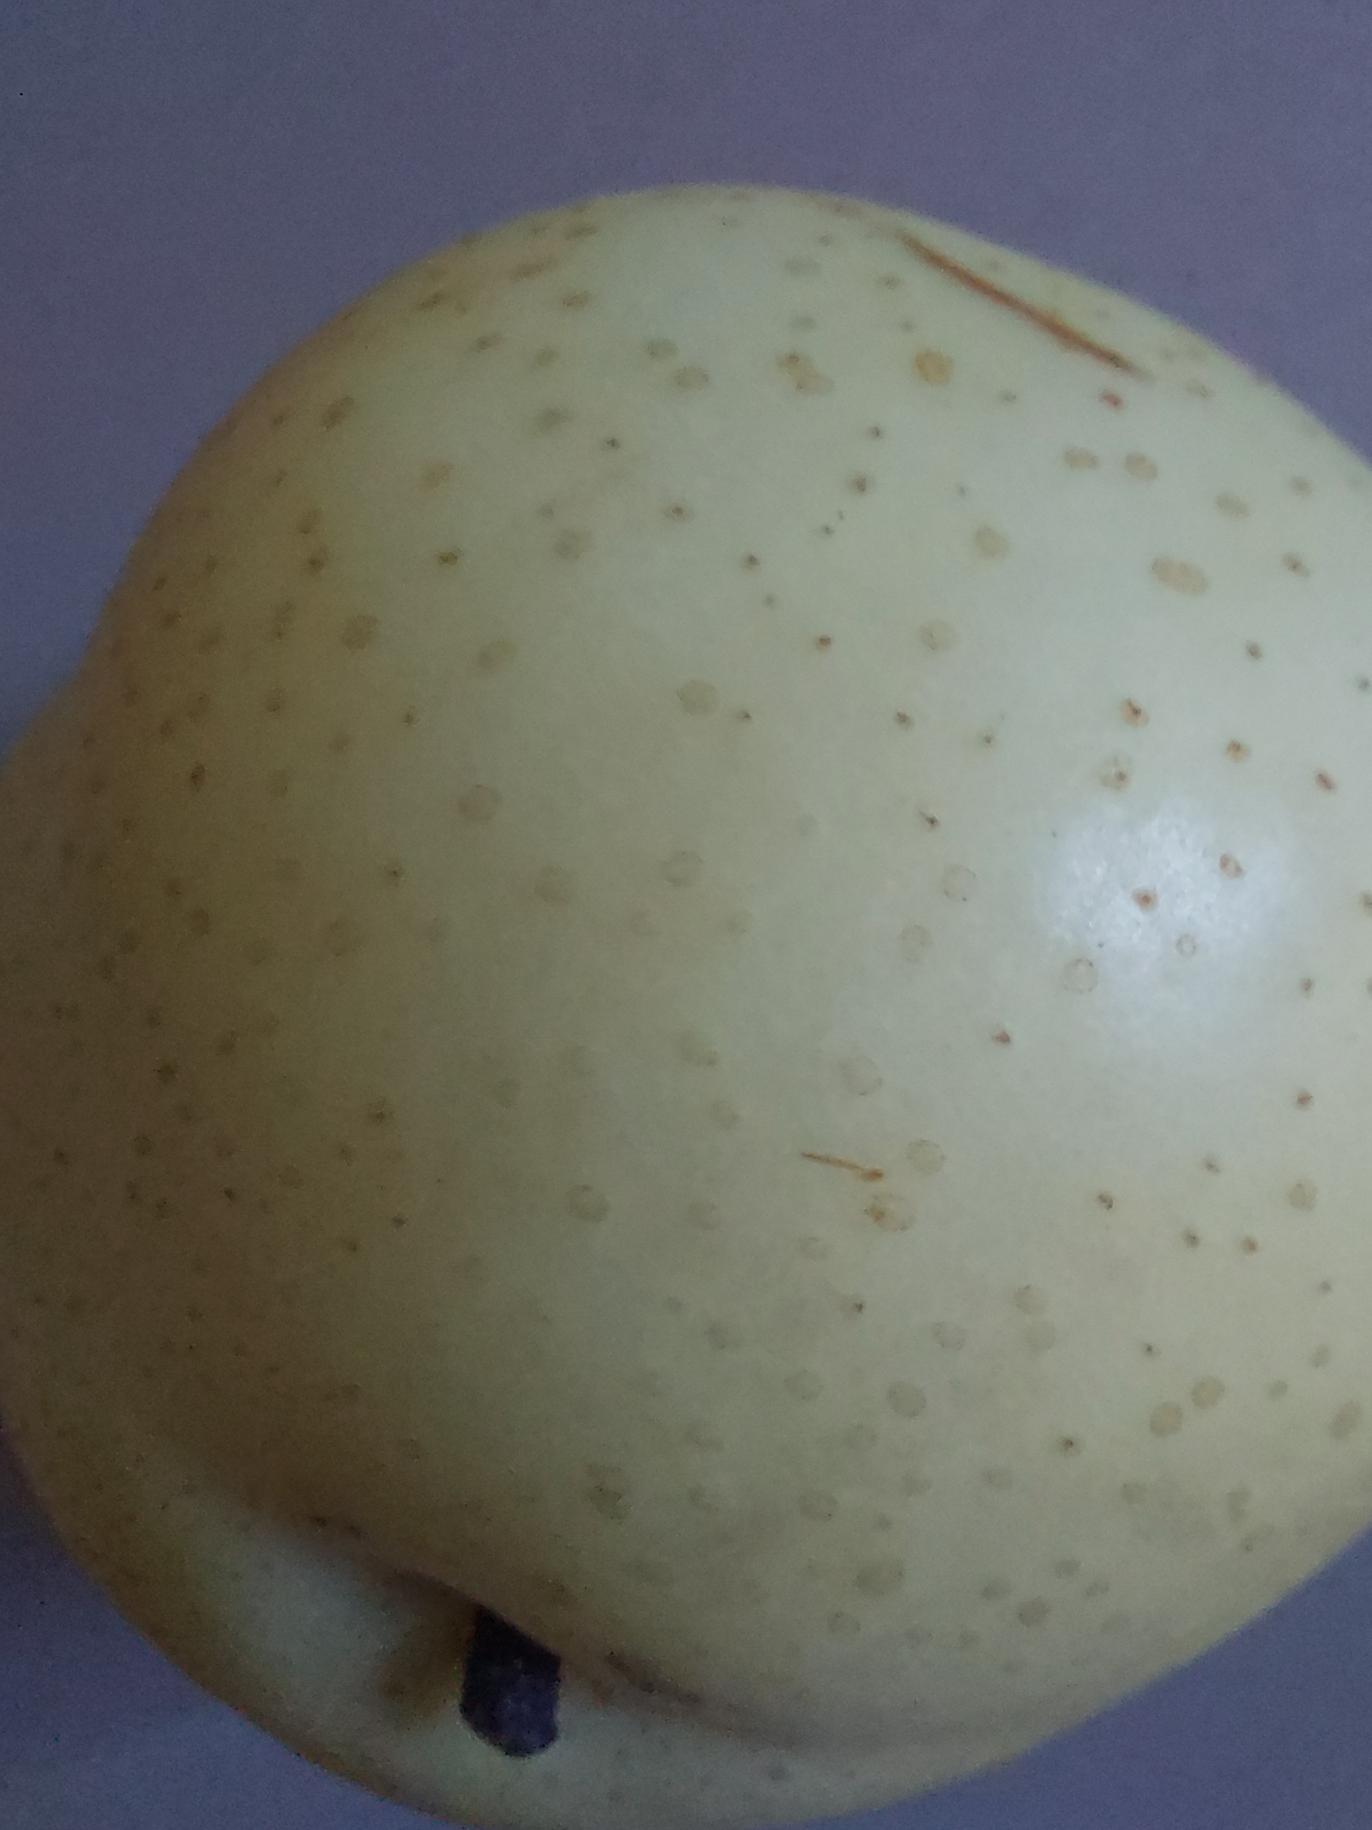Good Pear: (0, 182, 1372, 1830)
